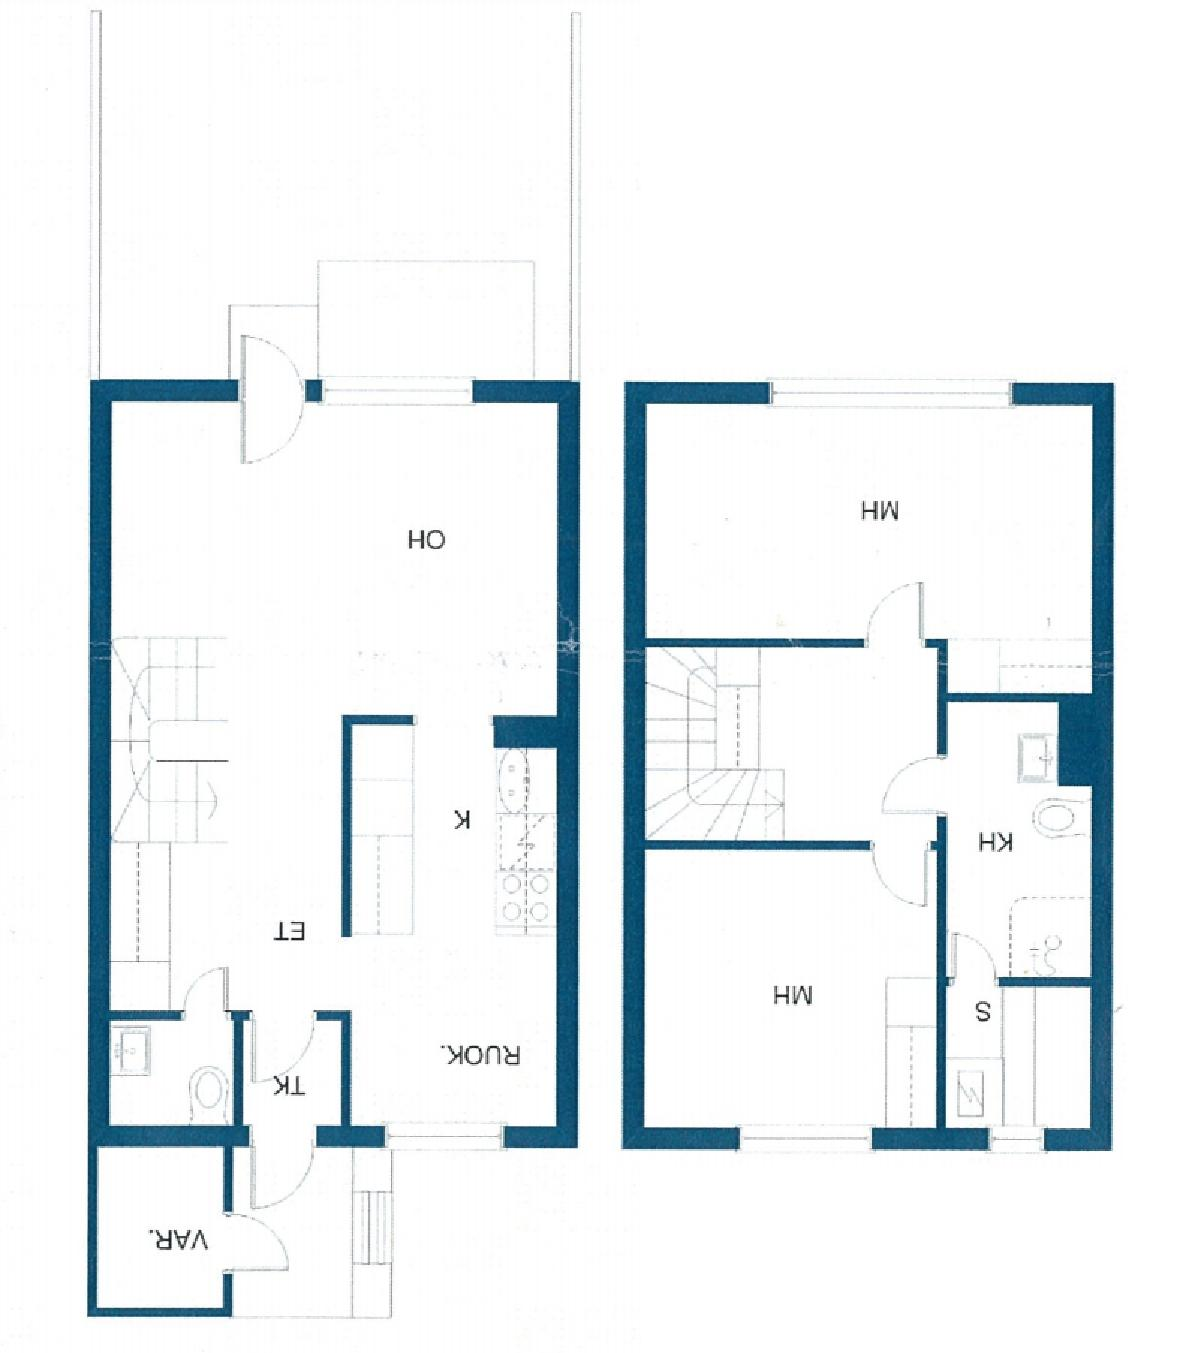door: (234, 335, 312, 473), (243, 1010, 324, 1090), (246, 1129, 322, 1211), (223, 1216, 299, 1292), (879, 750, 946, 819), (874, 842, 929, 920), (866, 580, 929, 639), (186, 950, 236, 1023), (949, 935, 1000, 983)
window: (773, 375, 1007, 402), (309, 382, 470, 403), (733, 1126, 870, 1149), (392, 1125, 510, 1142), (987, 1130, 1050, 1156)
zone: (109, 399, 557, 1123), (99, 15, 573, 382), (634, 403, 1105, 686), (347, 720, 554, 1126), (640, 853, 936, 1125), (642, 645, 933, 833), (939, 700, 1086, 972), (224, 1133, 389, 1316), (946, 978, 1091, 1133), (94, 1142, 222, 1304), (109, 1018, 234, 1123), (237, 1012, 342, 1123)
